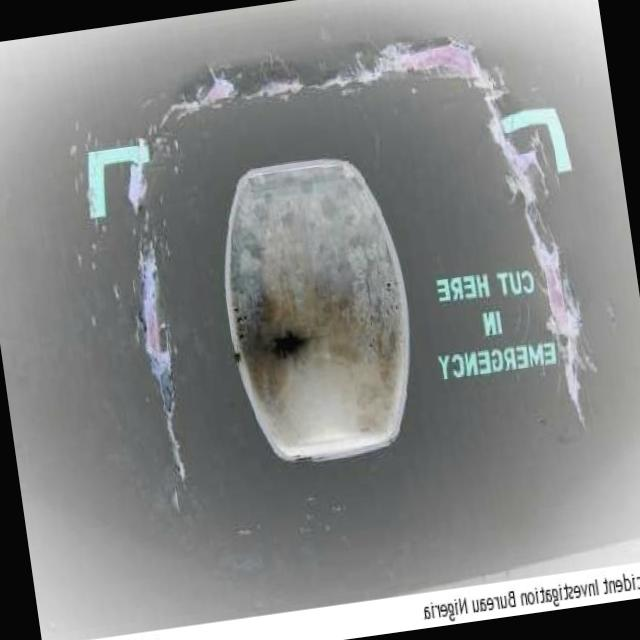crack: (477, 82, 607, 440), (142, 33, 494, 130), (130, 242, 192, 494), (123, 166, 151, 214)
